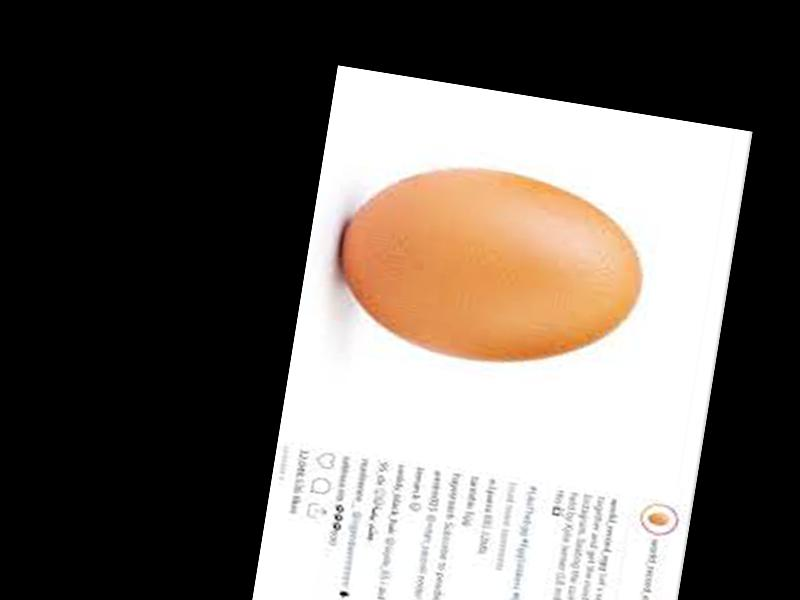Eggs: (330, 147, 655, 383)
